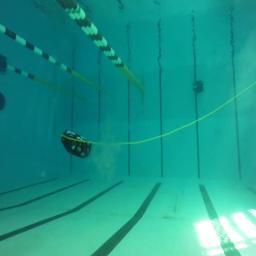Full: (192, 85, 205, 94)
Side: (60, 128, 93, 159)
